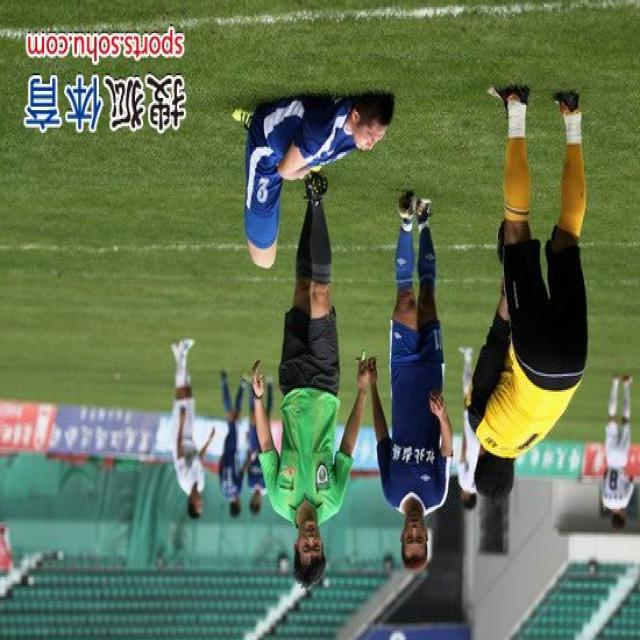nofight: (468, 101, 582, 478), (268, 204, 360, 590), (368, 214, 466, 576), (224, 82, 411, 266), (165, 324, 212, 534)
